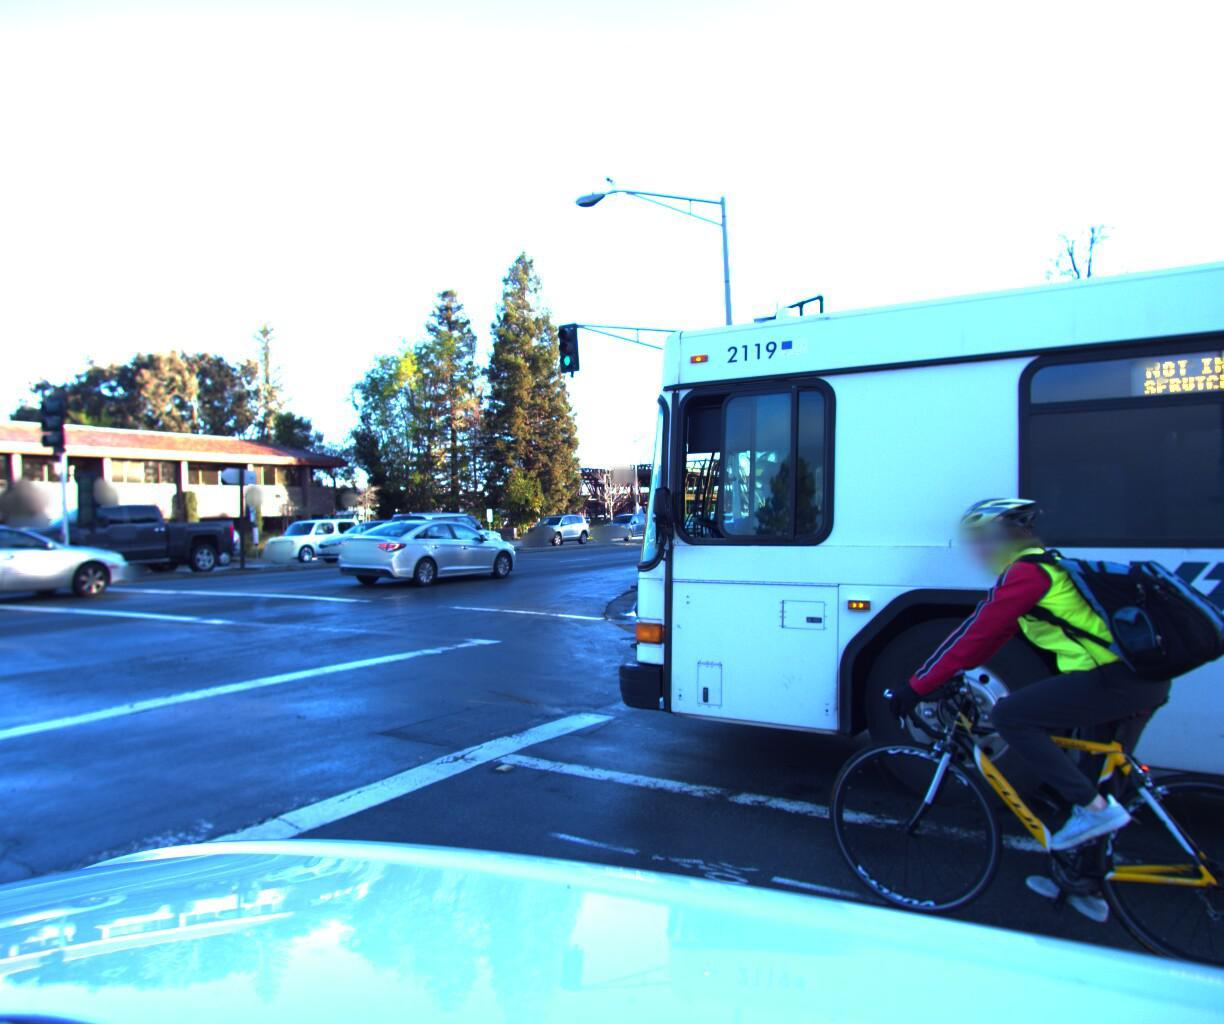bicycle: (818, 431, 1224, 1024)
car: (0, 500, 244, 589), (0, 511, 150, 616), (331, 514, 528, 591), (376, 509, 513, 569), (300, 513, 441, 568), (249, 516, 376, 565), (188, 519, 312, 569), (519, 510, 593, 546), (595, 511, 658, 543), (0, 537, 15, 602)
